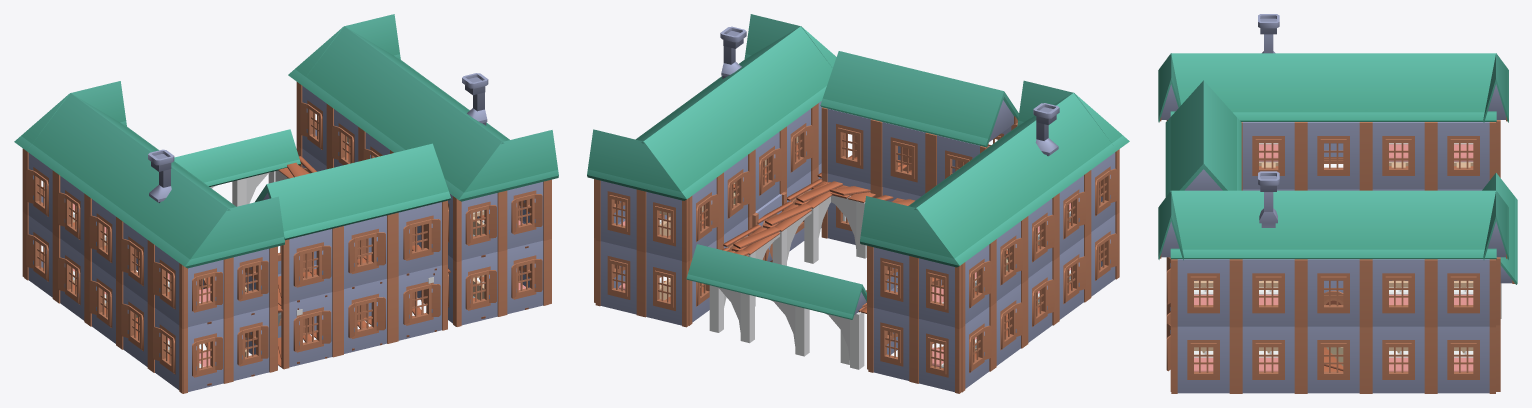
Rendered from london_bld_hospital.glb.
3 renders of one model, left to right at view 1: azimuth 30°, elevation 25°; view 2: azimuth 150°, elevation 25°; view 3: azimuth 270°, elevation 25°, orthographic. The views are drawn at different scales.
Visible parts, largest first — view 1: wall-window-shutters (×29), roof-gable (×15), roof-gable-end (×4), Grey_Arch_01; view 2: wall-window-shutters (×29), roof-gable (×16), roof-gable-end (×4), Grey_Arch_01 (×7), platform-planks (×4), wall-door, chimney-base; view 3: wall-window-shutters (×19), roof-gable (×15), roof-gable-end (×4), chimney-top (×2), chimney-base.
Part boxes in pixels (box(x1,y1,x2,y2)): wall-window-shutters (×29): box(24, 83, 548, 393); roof-gable (×15): box(27, 26, 509, 257); roof-gable-end (×4): box(14, 14, 558, 268); Grey_Arch_01: box(232, 172, 270, 206); wall-window-shutters (×29): box(595, 101, 1119, 393); roof-gable (×16): box(635, 26, 1116, 319); roof-gable-end (×4): box(587, 14, 1129, 267); Grey_Arch_01 (×7): box(709, 189, 866, 369); platform-planks (×4): box(723, 178, 875, 254); wall-door: box(752, 192, 786, 260); chimney-base: box(1035, 122, 1058, 156); wall-window-shutters (×19): box(1166, 122, 1500, 393); roof-gable (×15): box(1165, 53, 1517, 284); roof-gable-end (×4): box(1158, 53, 1508, 260); chimney-top (×2): box(1258, 14, 1279, 191); chimney-base: box(1259, 192, 1277, 227).
Size of the model in its own units: 20.5 by 10.35 by 16.6.
16 materials, 7 textured.
